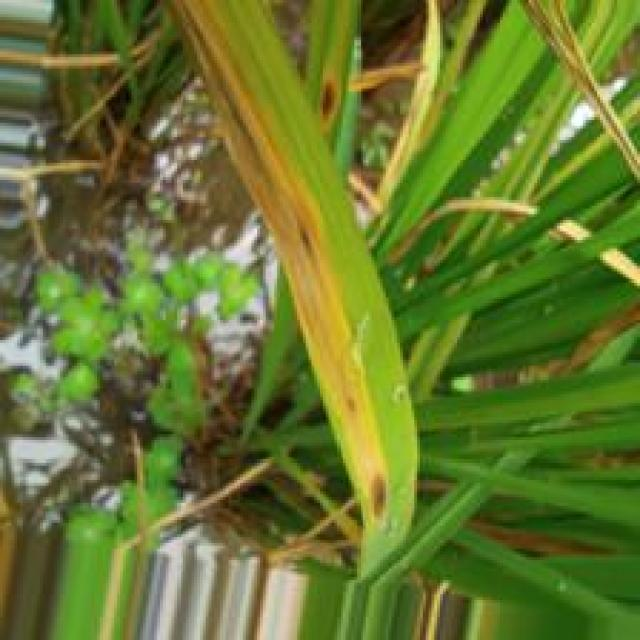Narrow_Brown_Leaf_Spot: (161, 0, 397, 527)
